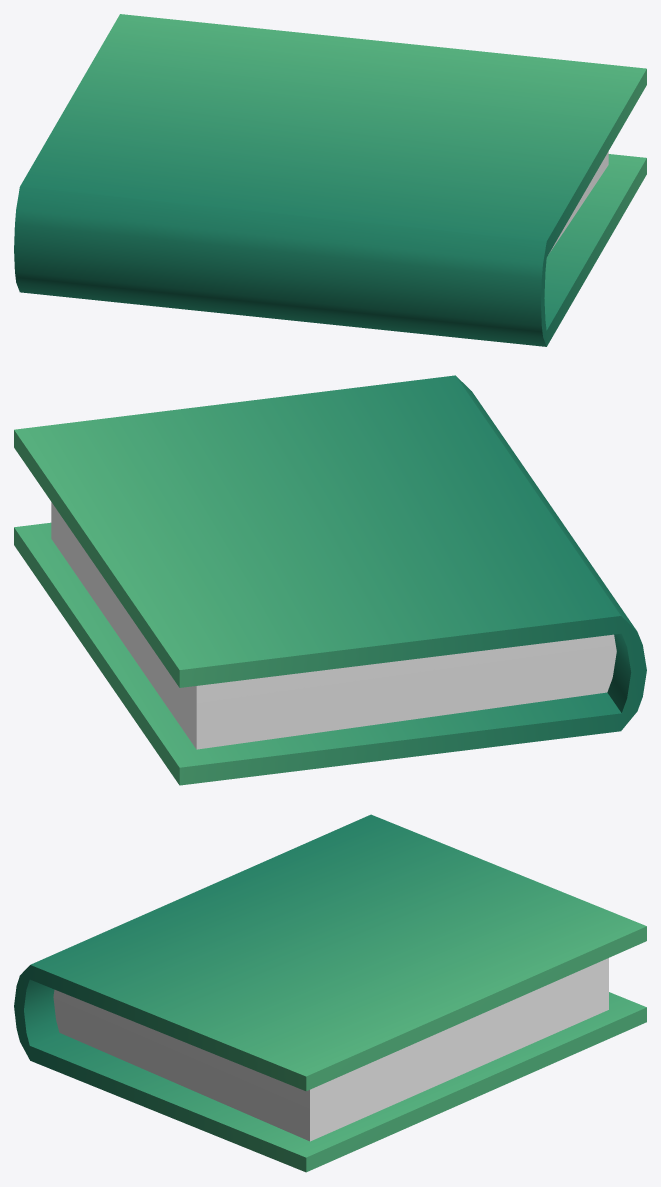
File: Book.fbx
3 renders of one model, top to bottom at view 1: azimuth 30°, elevation 25°; view 2: azimuth 150°, elevation 25°; view 3: azimuth 270°, elevation 25°, orthographic. The views are drawn at different scales.
Visible parts, largest first — view 1: Book; view 2: Book; view 3: Book.
Boxes of the visible parts, <box> form: Book: <box>14,14,646,346</box>; Book: <box>14,375,646,785</box>; Book: <box>14,814,646,1172</box>.
Bounding box in the file's own units: 25.74 × 4.29 × 25.63.
